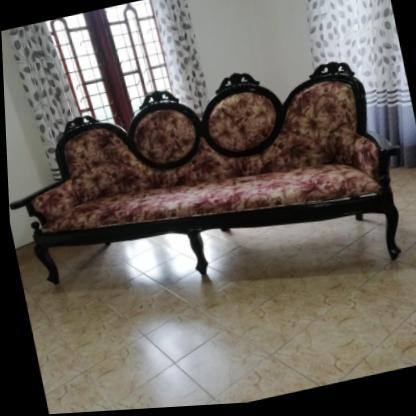Ceramic floor: (17, 272, 416, 415)
Sofa: (2, 42, 416, 339)
